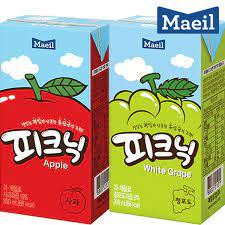picnic_apple: (1, 14, 102, 224)
